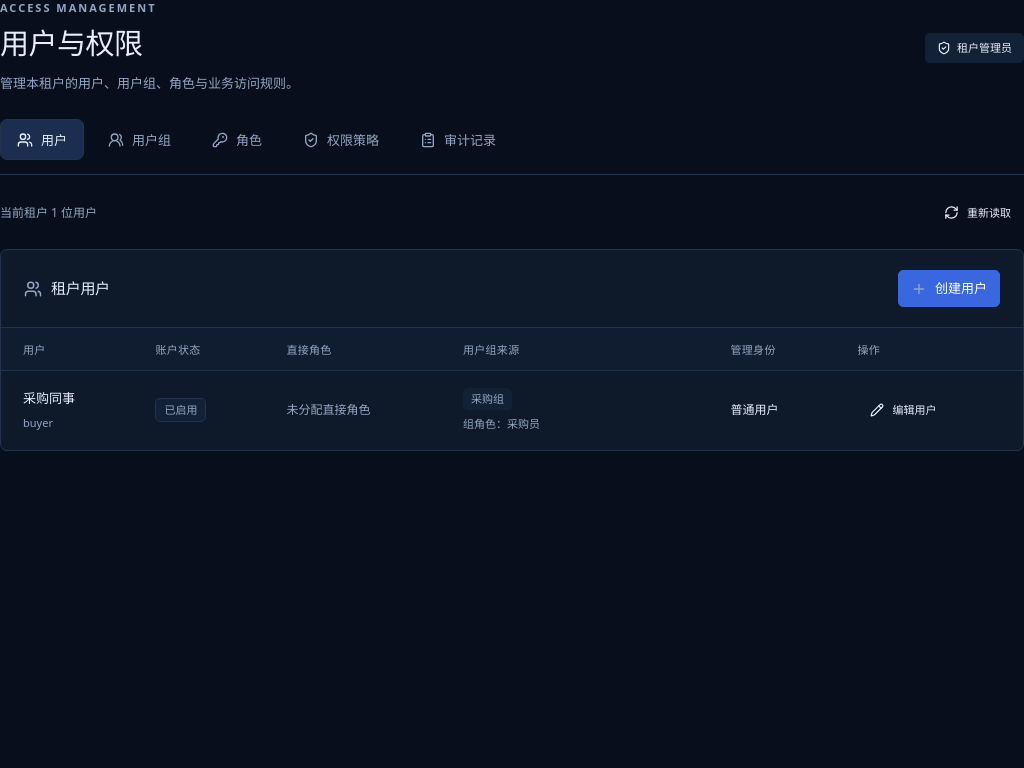
tenant user groups › shows direct roles separately from group sources and counts group assignments on role cards
This screenshot has width=1024, height=768.
Expected: the row "采购同事 buyer 已启用 未分配直接角色 采购组 组角色：采购员 普通用户 编辑用户" is shown, x1=1 y1=370 x2=1023 y2=450
Expected: the cell "未分配直接角色" is shown, x1=264 y1=370 x2=441 y2=450
Click the button "编辑用户".
click(903, 410)  # box x1=857 y1=393 x2=949 y2=427
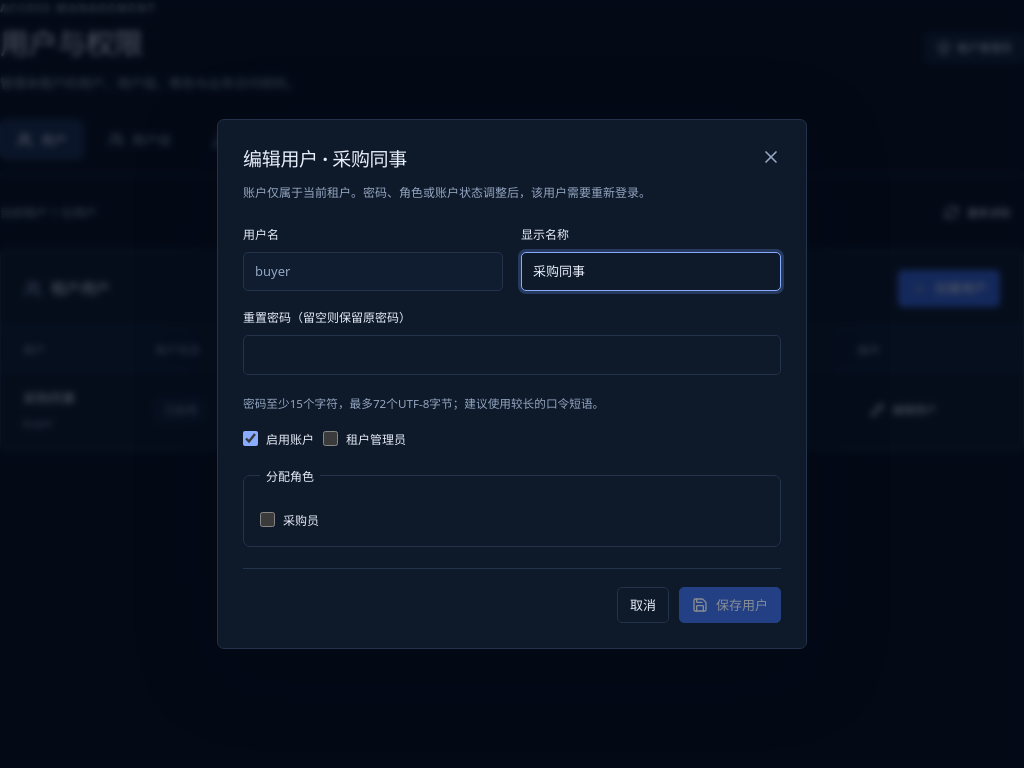
Expected: the checkbox labelled "采购员" is not checked, x1=260 y1=512 x2=275 y2=527
Click the button "取消".
click(643, 605)  # box x1=617 y1=587 x2=669 y2=623
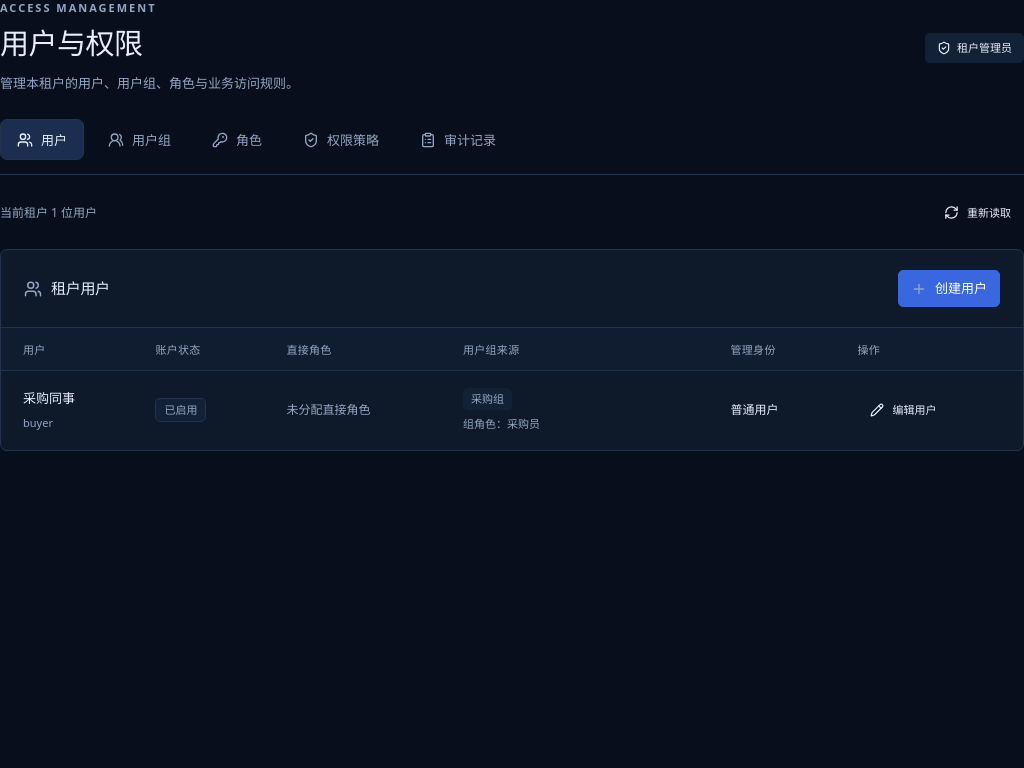
Click the tab "角色".
click(237, 140)  # box x1=195 y1=119 x2=279 y2=160
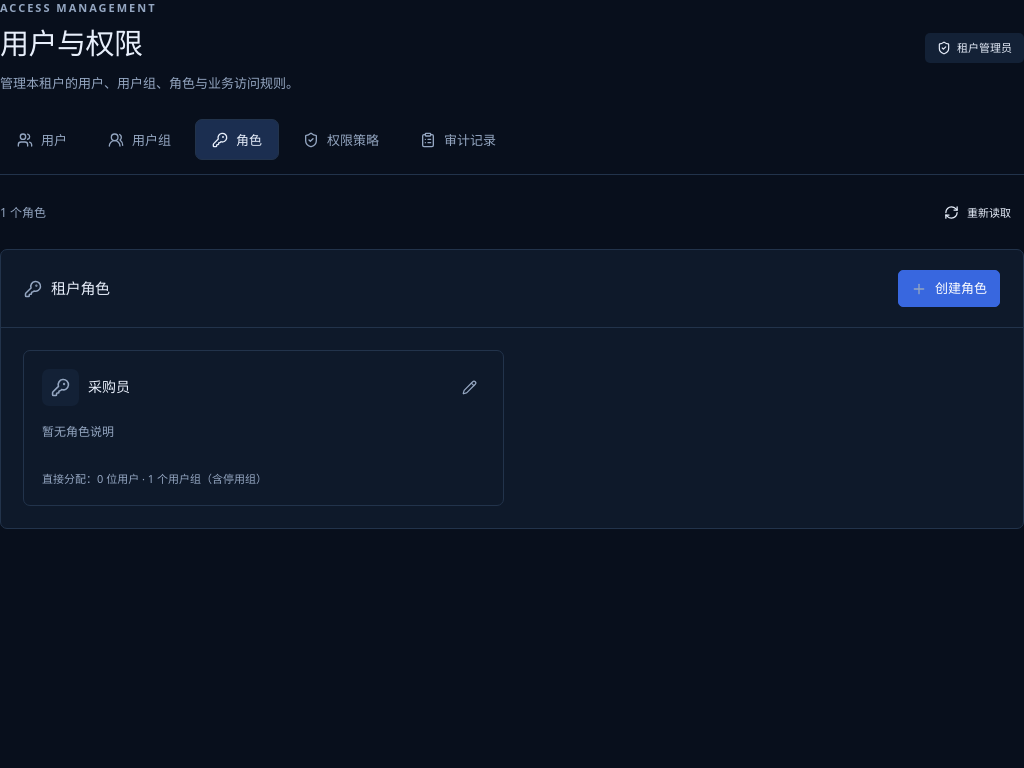
Expected: the text "直接分配：0 位用户 · 1 个用户组（含停用组）" is shown, x1=42 y1=471 x2=267 y2=486
